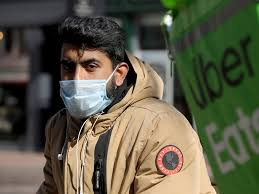Mask: (58, 75, 108, 112)
Social Distance: (27, 8, 202, 191)
